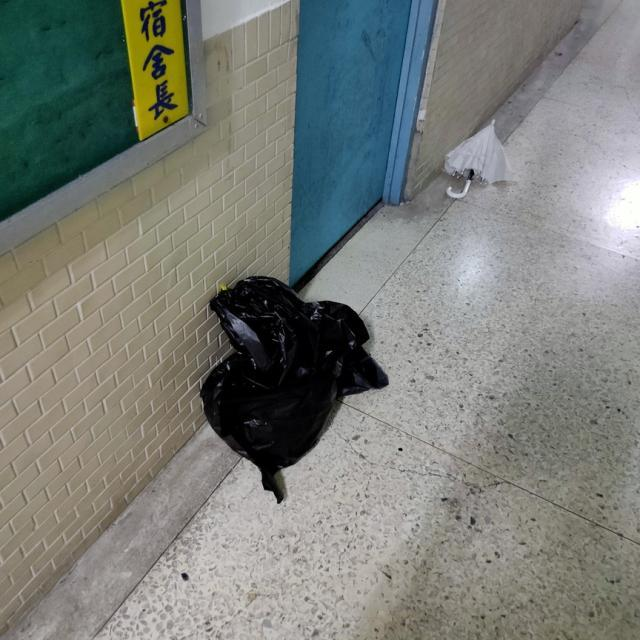Vinyl: (193, 278, 397, 510)
